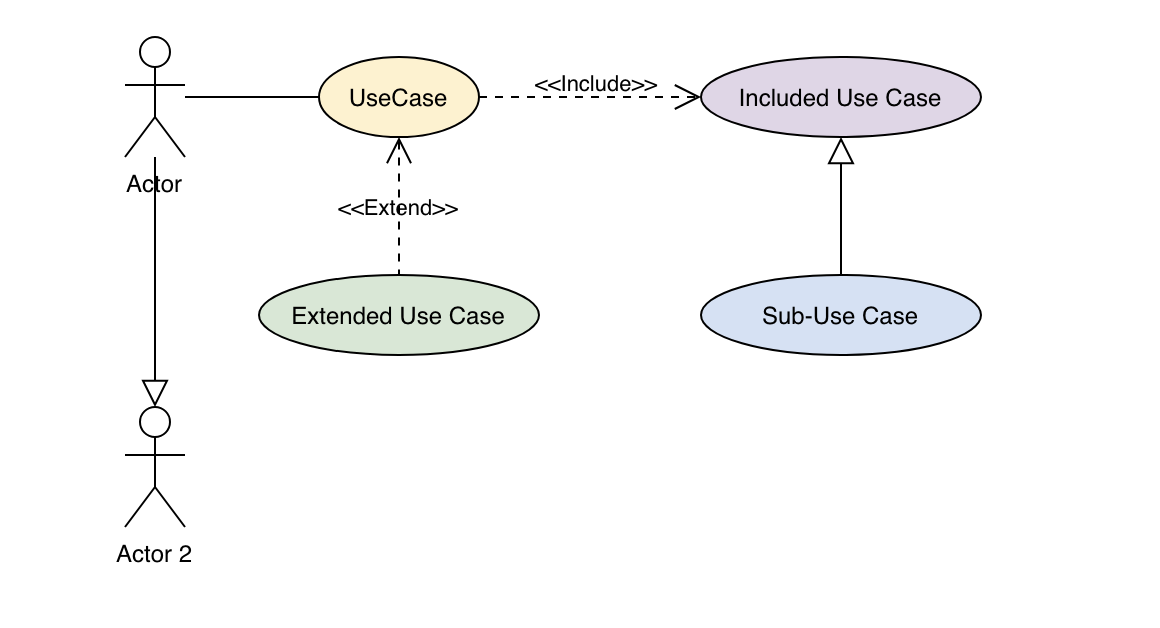actor: (123, 34, 194, 161), (123, 406, 191, 533)
association: (480, 82, 698, 113), (142, 160, 168, 404), (384, 137, 415, 273), (825, 139, 857, 270), (183, 86, 316, 106)
text: (285, 300, 505, 333), (758, 300, 928, 334), (736, 86, 947, 112), (332, 192, 462, 226), (527, 69, 657, 95), (346, 80, 451, 110), (106, 542, 204, 569), (128, 170, 186, 199)
use_case: (699, 53, 982, 140), (256, 273, 542, 358), (698, 273, 982, 358), (316, 54, 480, 139)
